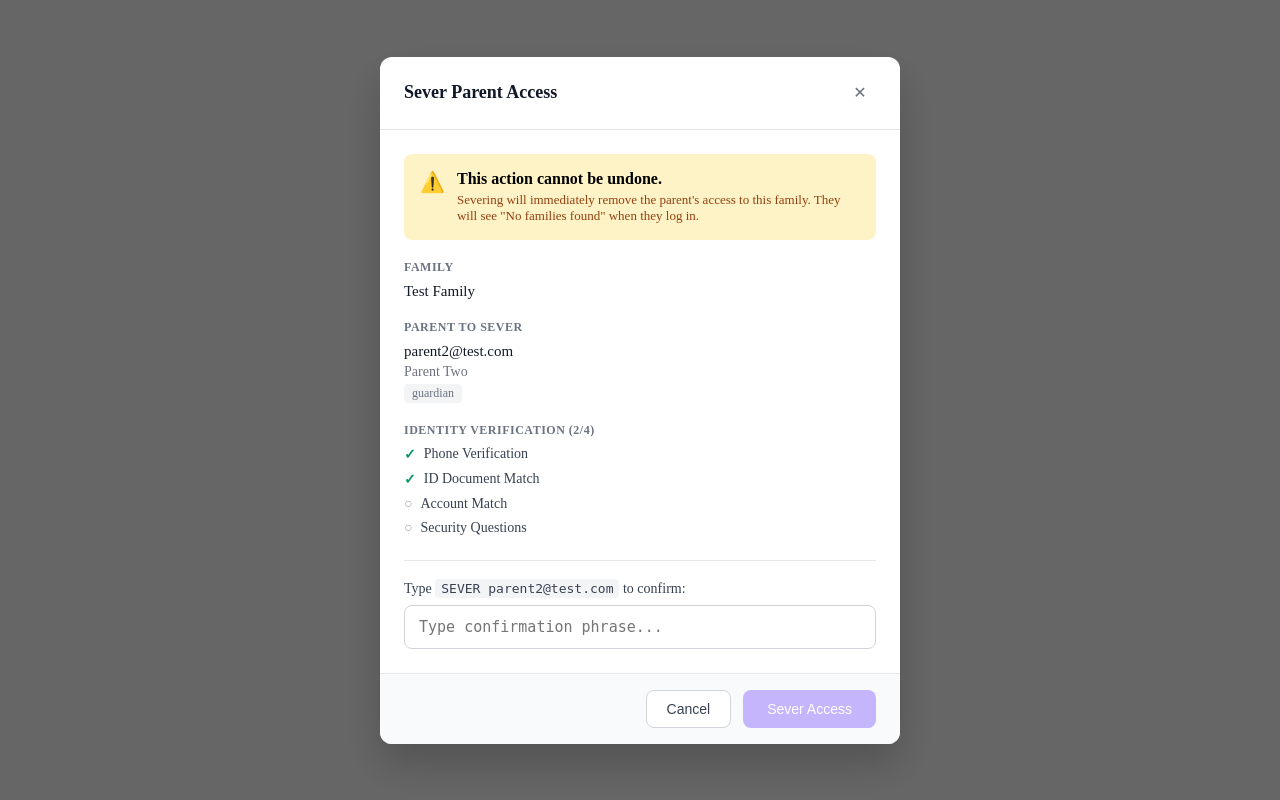
Test: SafetySeverParentModal › confirmation phrase › sever button is enabled when phrase matches and verifications met
The image size is (1280, 800).
Type "SEVER parent2@test.com" into the field with placeholder "Type confirmation phrase..." at (640, 626), box 404,604 -> 876,648
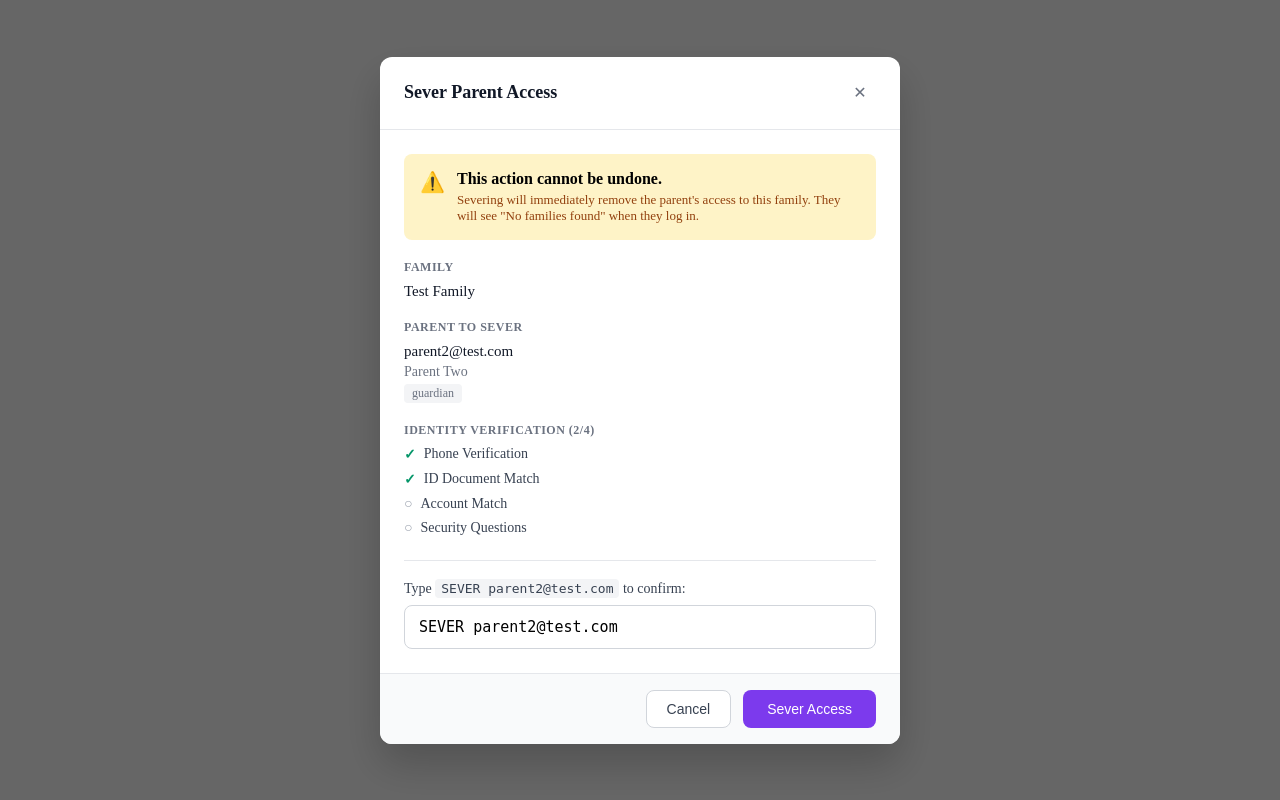
Expected: the button "Sever Access" is enabled, 743,690 -> 876,728
